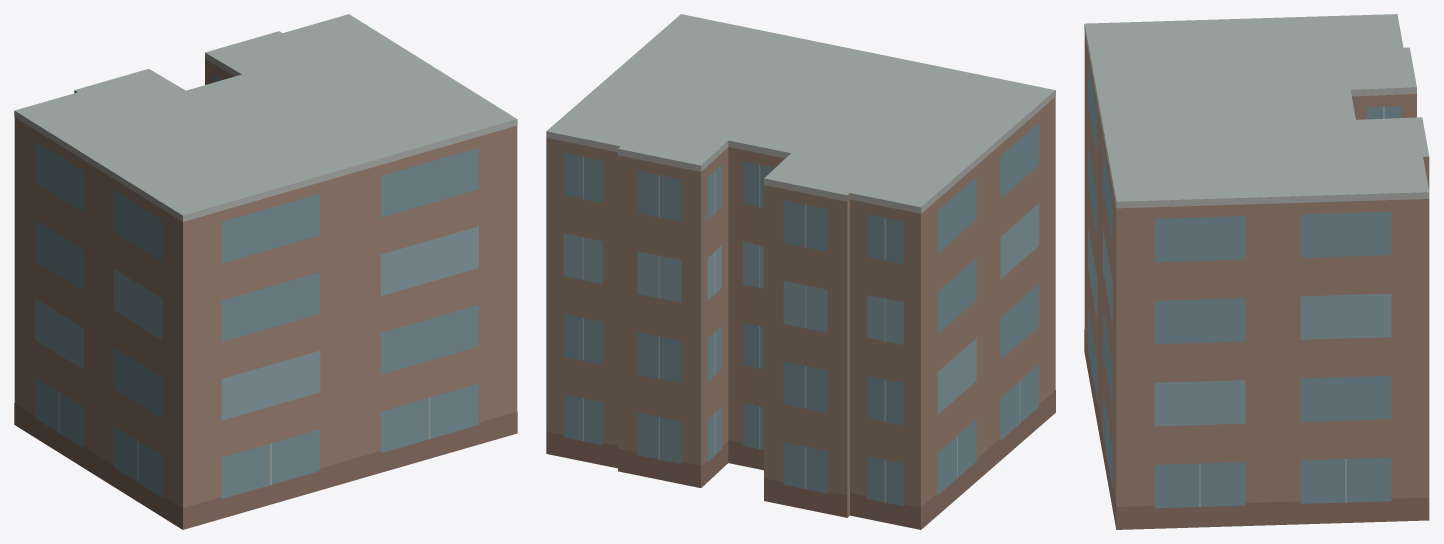
The model's file is survey-upis-32967318.glb.
3 views of the same model, side by side, from view 1: azimuth 30°, elevation 25°; view 2: azimuth 150°, elevation 25°; view 3: azimuth 270°, elevation 25° (orthographic). The views are drawn at different scales.
Parts seen in each view (by area): view 1: survey-upis-32967318.tmp; view 2: survey-upis-32967318.tmp; view 3: survey-upis-32967318.tmp.
Part boxes in pixels (x1,y1,x2,y2): survey-upis-32967318.tmp: [14, 14, 517, 529]; survey-upis-32967318.tmp: [546, 14, 1055, 529]; survey-upis-32967318.tmp: [1084, 14, 1429, 529].
Size of the model in its own units: 14.86 by 12.1 by 11.54.
